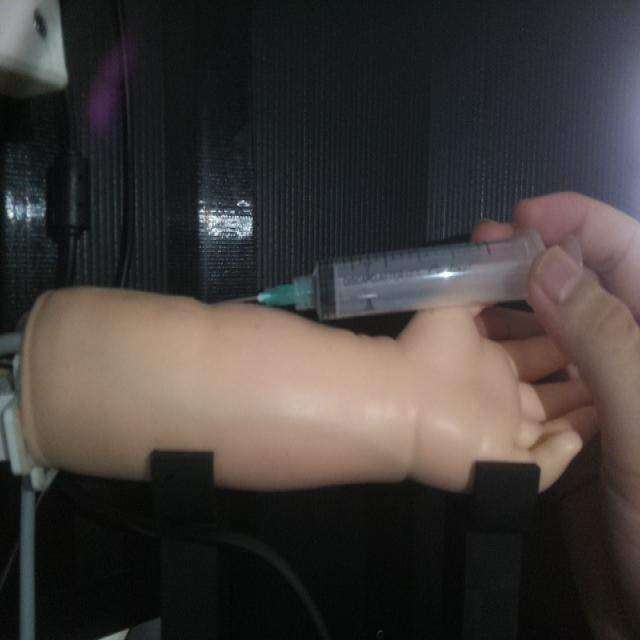Outside: (207, 220, 587, 318)
